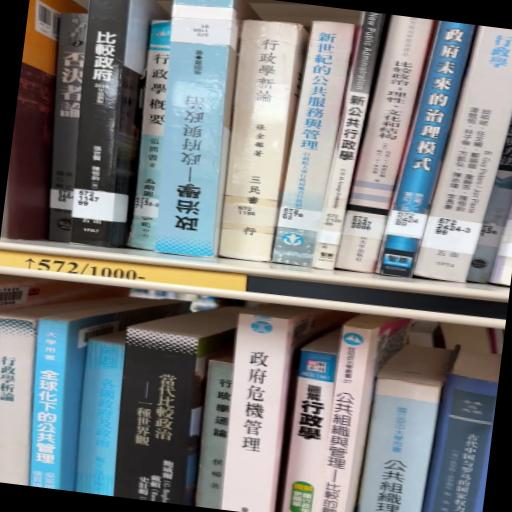reverse: (156, 1, 259, 258)
